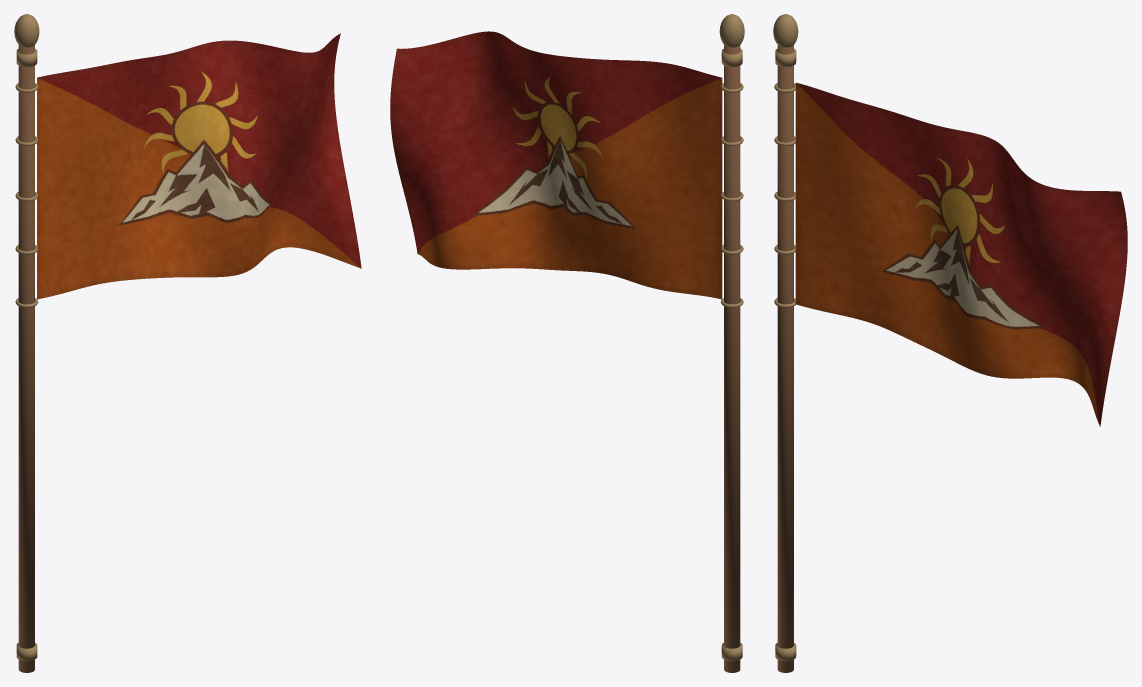
The model's file is kingdom_flag_clean.glb.
3 views of the same model, side by side, from view 1: azimuth 30°, elevation 25°; view 2: azimuth 150°, elevation 25°; view 3: azimuth 330°, elevation 25° (orthographic).
Parts seen in each view (by area): view 1: Flag_Cloth, Oak_Flagpole, Pole_Fittings; view 2: Flag_Cloth, Oak_Flagpole, Pole_Fittings; view 3: Flag_Cloth, Oak_Flagpole, Pole_Fittings.
Part boxes in pixels (<box>): Flag_Cloth: <box>37,33,361,299</box>; Oak_Flagpole: <box>18,45,34,672</box>; Pole_Fittings: <box>14,14,39,661</box>; Flag_Cloth: <box>390,31,722,299</box>; Oak_Flagpole: <box>724,45,740,672</box>; Pole_Fittings: <box>719,14,744,661</box>; Flag_Cloth: <box>795,82,1127,426</box>; Oak_Flagpole: <box>777,45,793,672</box>; Pole_Fittings: <box>773,14,798,661</box>.
Bounding box in the file's own units: 1.52 × 2.83 × 0.2462.
3 materials, 1 textured.
